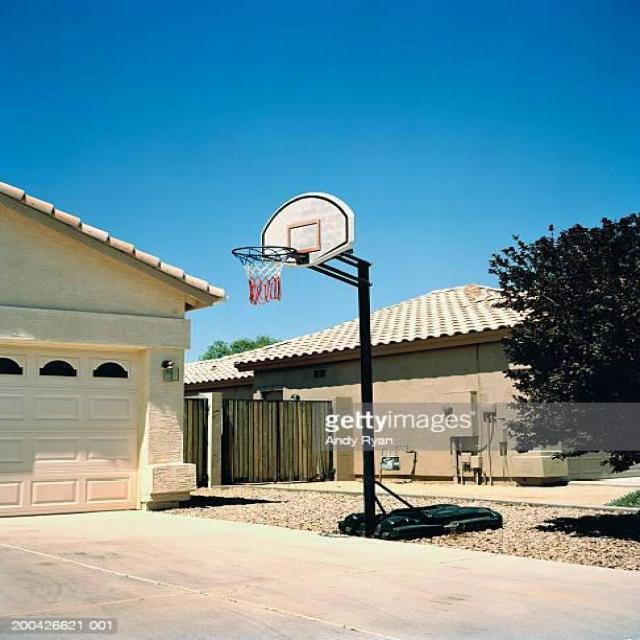hoop: (232, 247, 298, 306)
